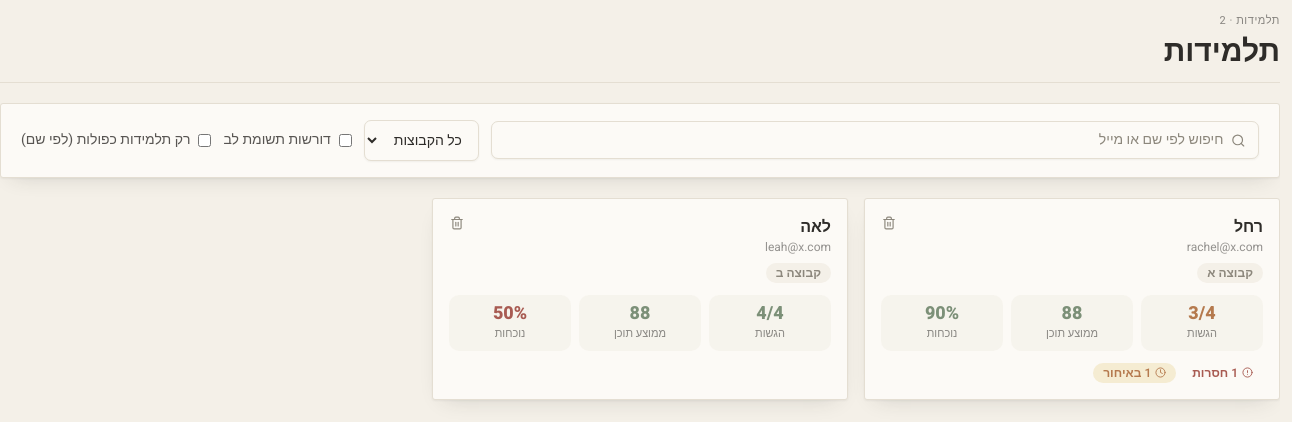
StudentsPage › filters by search text, group and needing attention
This screenshot has width=1292, height=422.
Expected: the text "רחל" is shown, [1234,215,1263,239]
Type "leah" into the field named "חיפוש תלמידה" at (864, 140), box [504,130,1223,150]
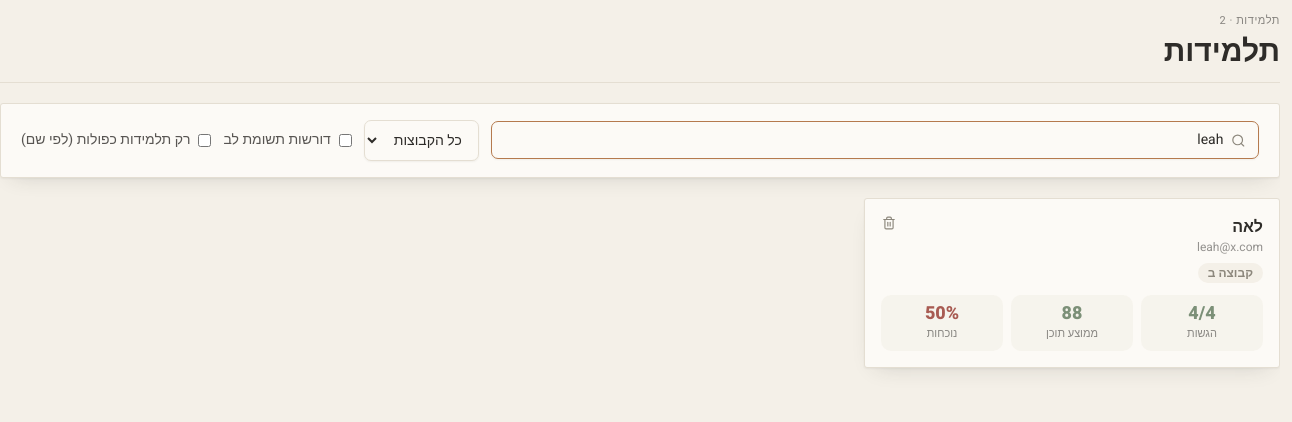
Expected: the text "לאה" is shown, [1232,215,1263,239]
Result: the link "רחל" is gone
Clear the field named "חיפוש תלמידה" at (864, 140), box [504,130,1223,150]
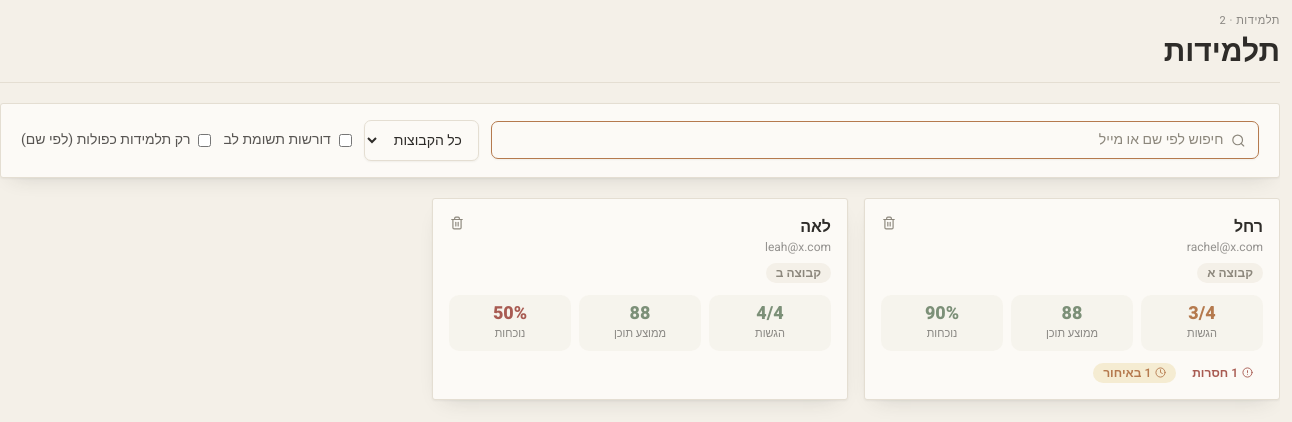
Select "קבוצה א" in the dropdown named "סינון לפי קבוצה" at (421, 140), box [364,120,479,161]
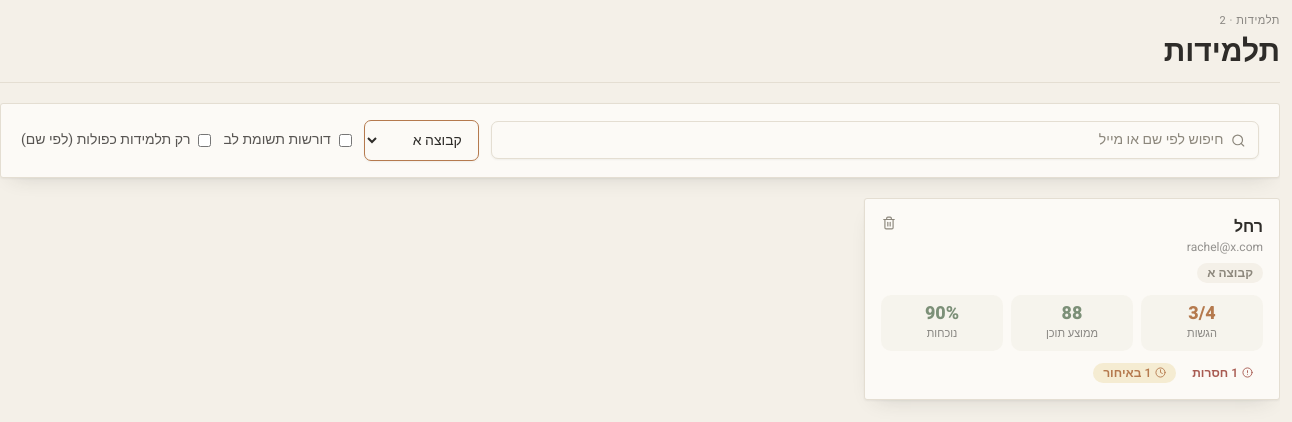
Result: the link "לאה" is gone
Select "כל הקבוצות" in the dropdown named "סינון לפי קבוצה" at (421, 140), box [364,120,479,161]
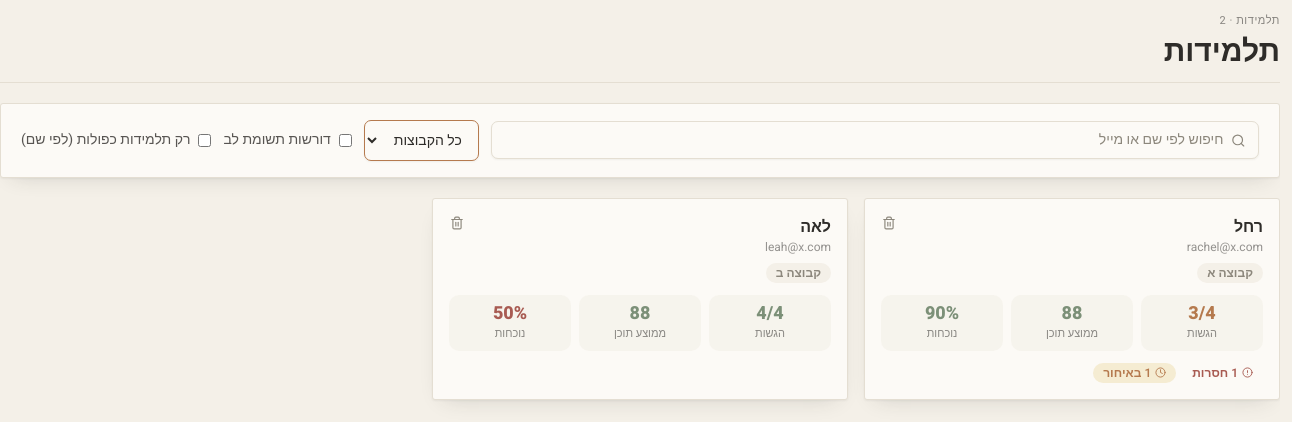
Click the checkbox labelled "דורשות תשומת לב" at (345, 140), box [339,134,352,147]
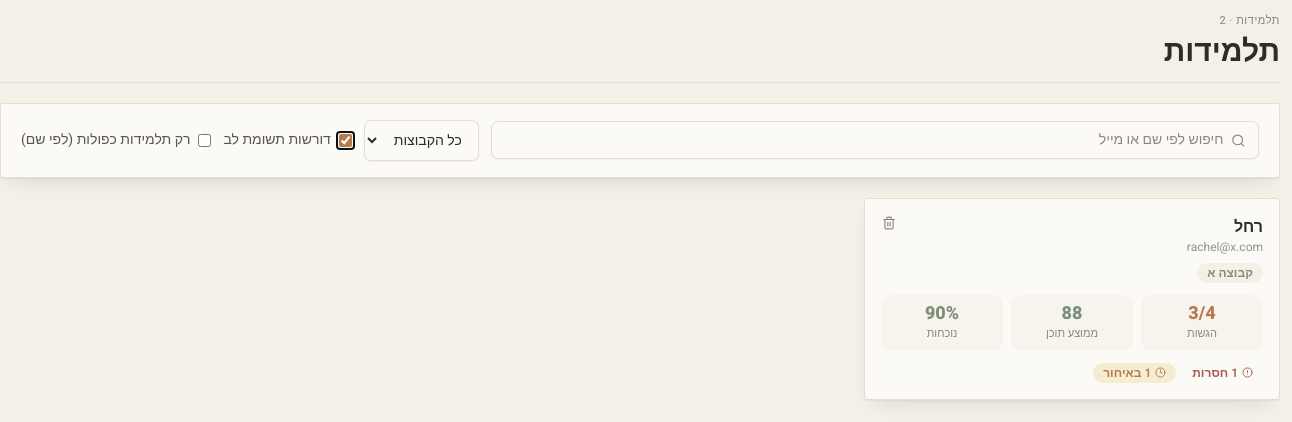
Result: the text "רחל" is shown at [1234,215,1263,239]
Result: the link "לאה" is gone
